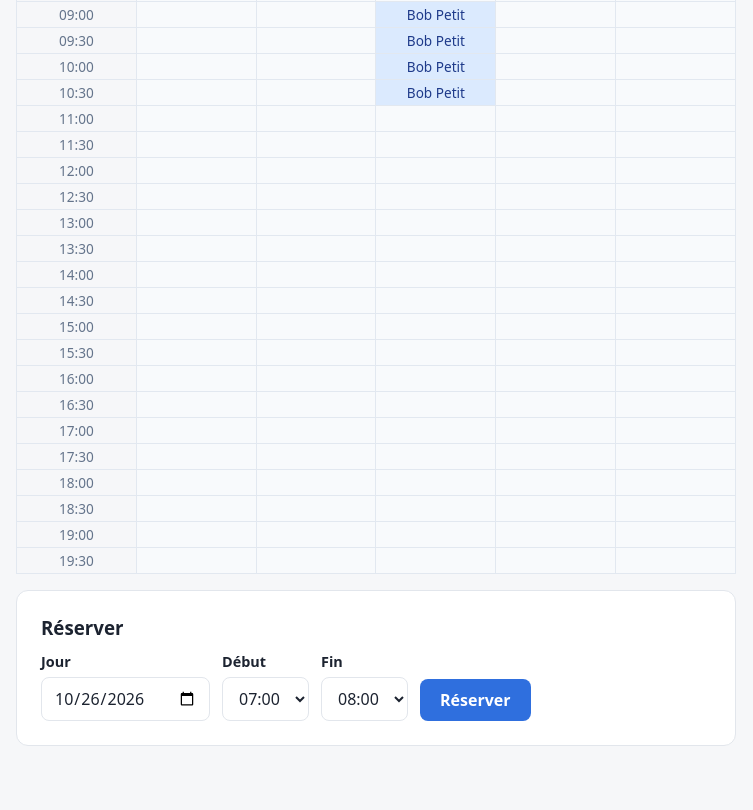
PlanningPage › affiche le message de l’API quand le créneau est déjà pris (409)
(page scrolled)
Click the button "Réserver": (475, 700) [420,679,530,721]
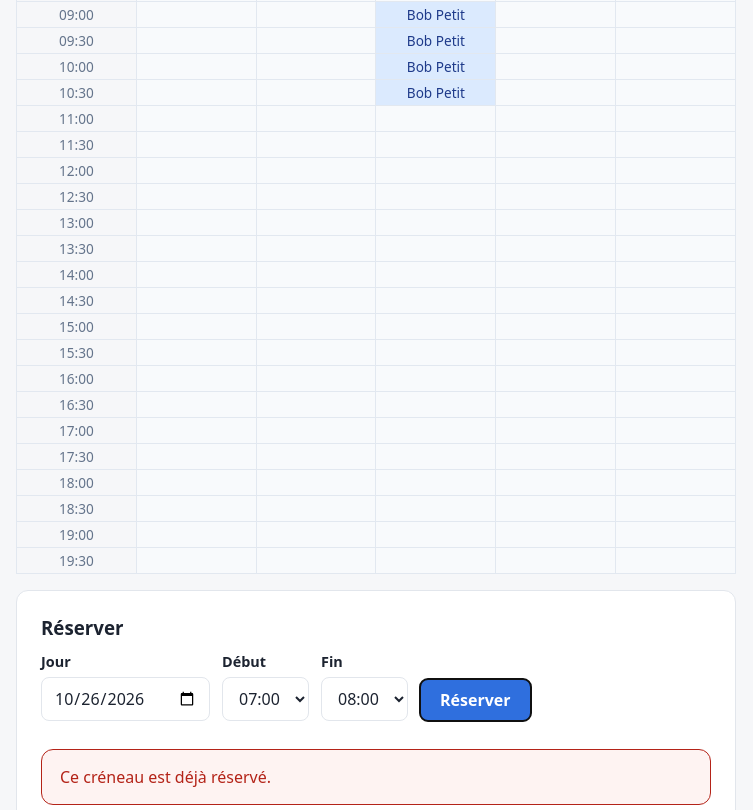
Check: the message reads "Ce créneau est déjà réservé.", box [60,766,271,788]
